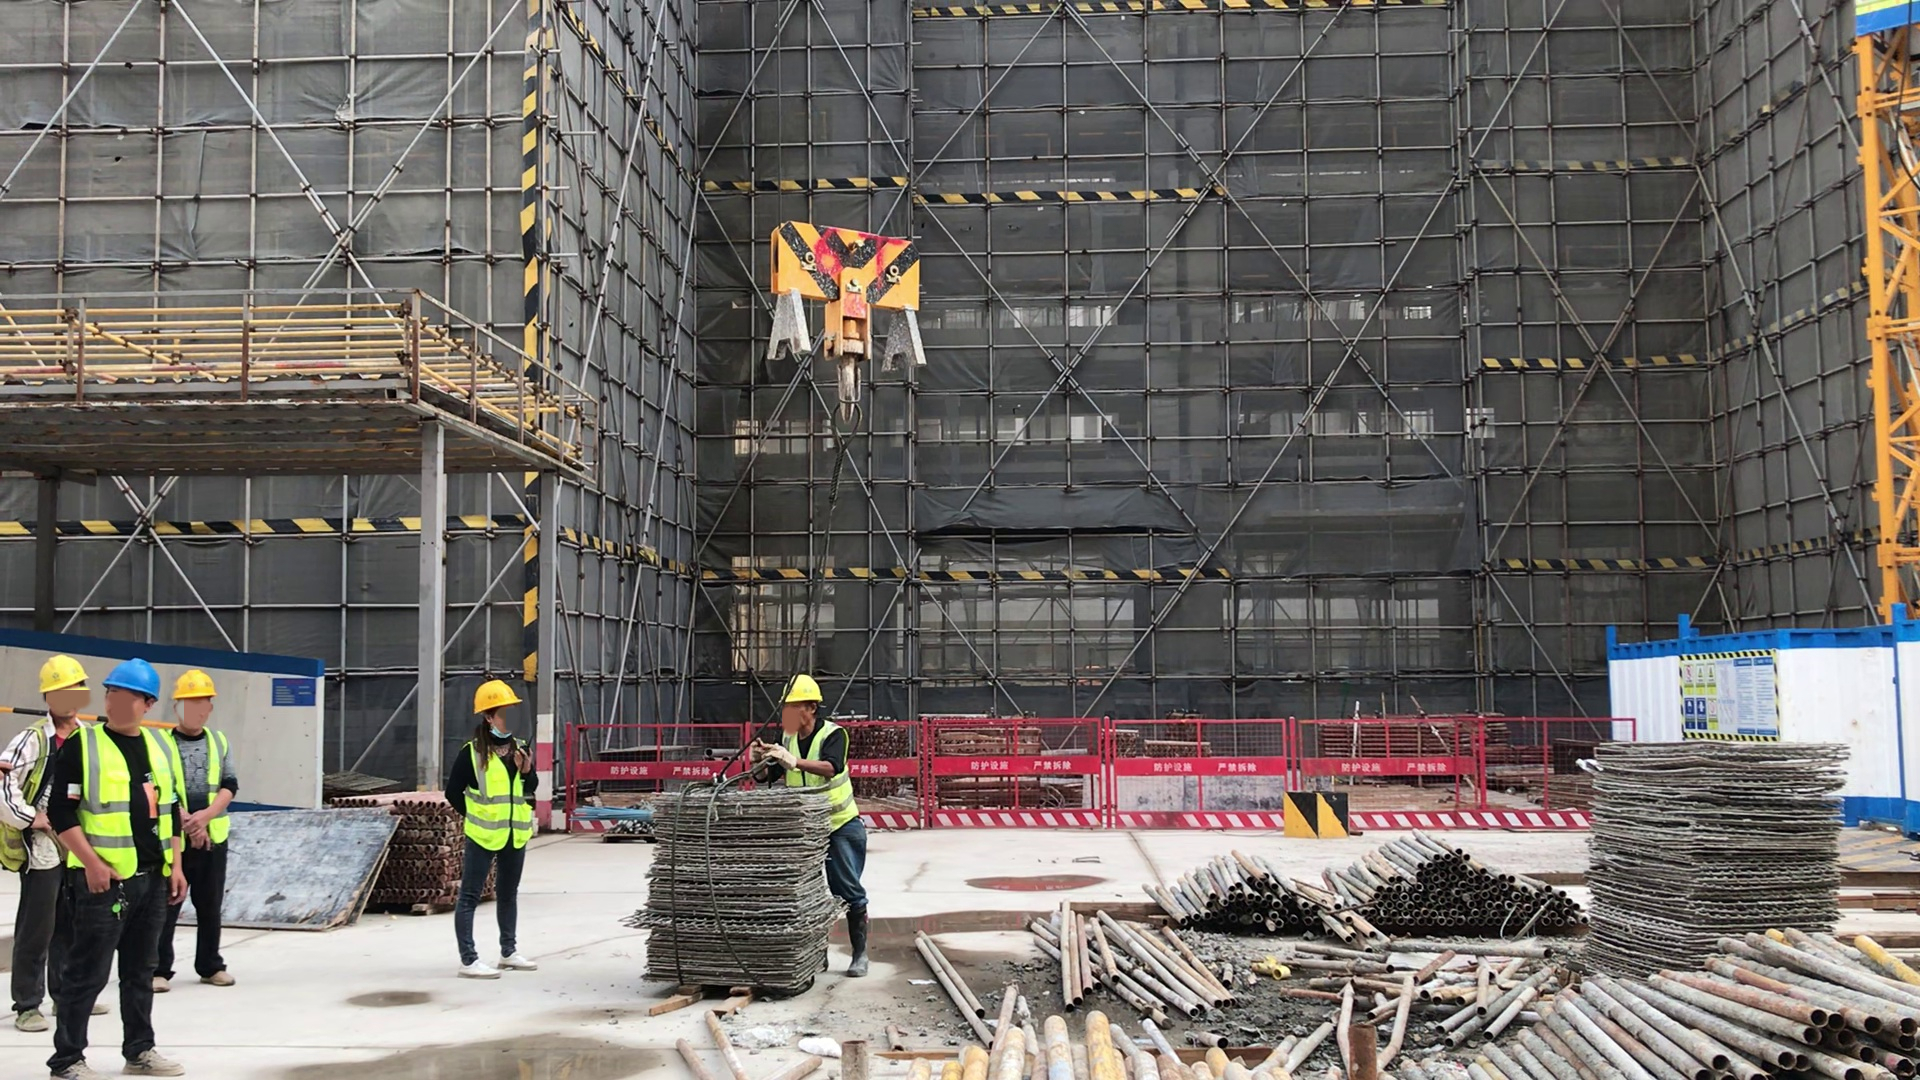fence: (567, 715, 1635, 830)
helmet: (102, 657, 159, 696), (166, 670, 219, 704), (469, 680, 524, 714), (38, 658, 85, 692), (777, 677, 823, 707)
hook: (765, 219, 931, 427)
person: (52, 663, 185, 1080), (1, 657, 109, 1033), (748, 675, 873, 979), (142, 656, 242, 991), (444, 679, 543, 979)
scaffold: (1594, 741, 1835, 956), (647, 788, 827, 989), (383, 795, 474, 908)
vest: (82, 722, 179, 884), (777, 723, 859, 833), (466, 735, 533, 851), (171, 724, 233, 845)
